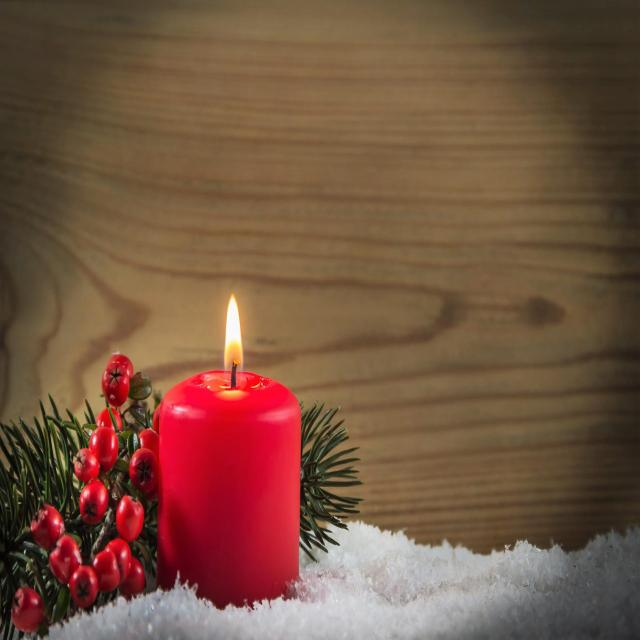Fire_Save: (154, 292, 302, 610)
